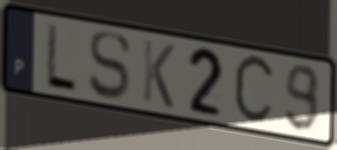2: (185, 45, 227, 123)
9: (282, 62, 322, 135)
C: (231, 51, 278, 129)
K: (140, 36, 177, 112)
L: (42, 20, 79, 96)
S: (87, 30, 134, 102)
